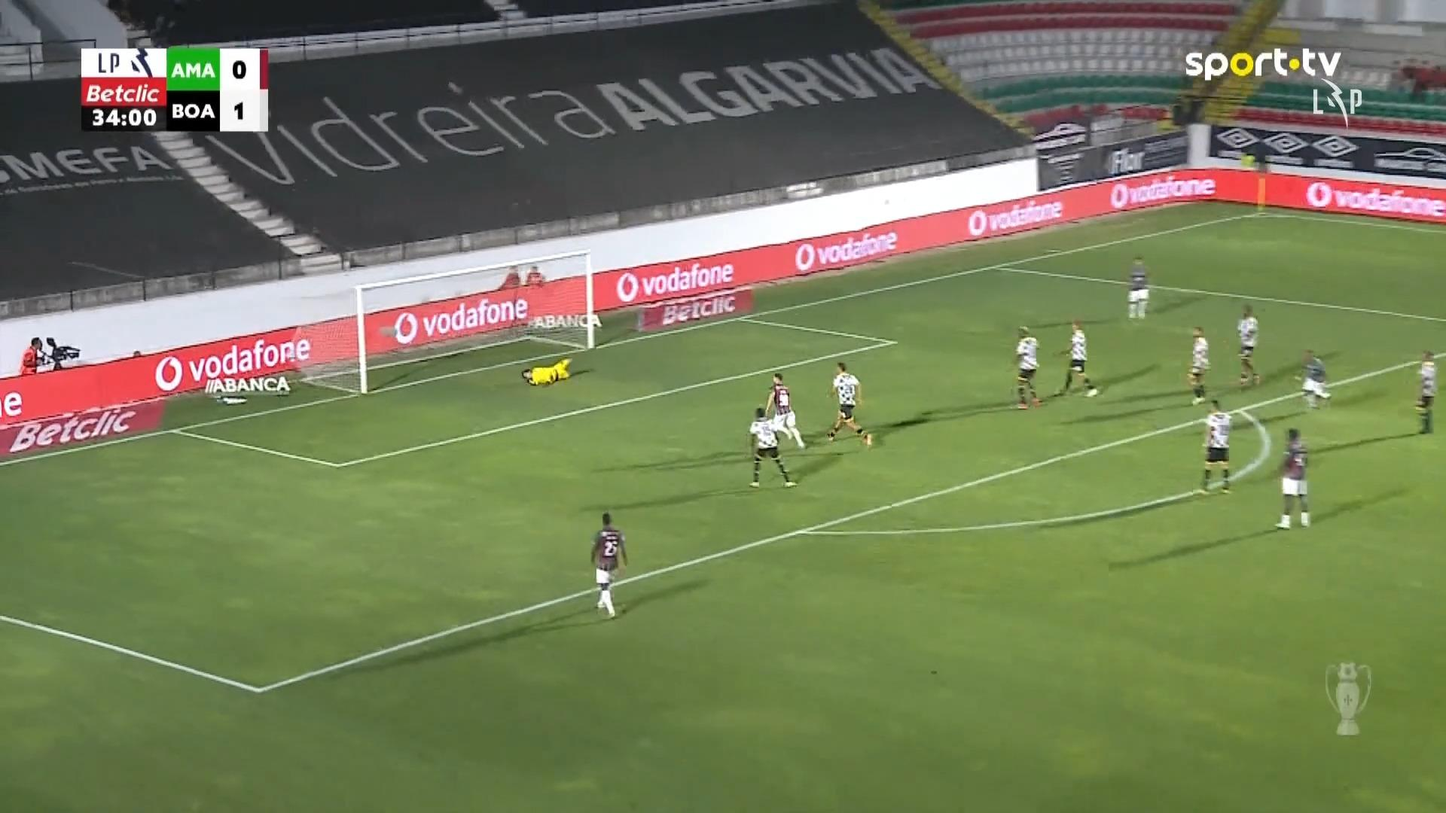goalkeeper: (520, 357, 572, 386)
player: (590, 510, 628, 618), (747, 406, 797, 488), (825, 361, 871, 446), (1274, 427, 1310, 528), (1053, 320, 1098, 397), (763, 371, 807, 449), (1198, 398, 1233, 494), (1013, 325, 1041, 409), (1296, 348, 1331, 410), (1235, 302, 1260, 386), (1414, 349, 1437, 434), (1186, 325, 1210, 404), (1126, 254, 1150, 319)
